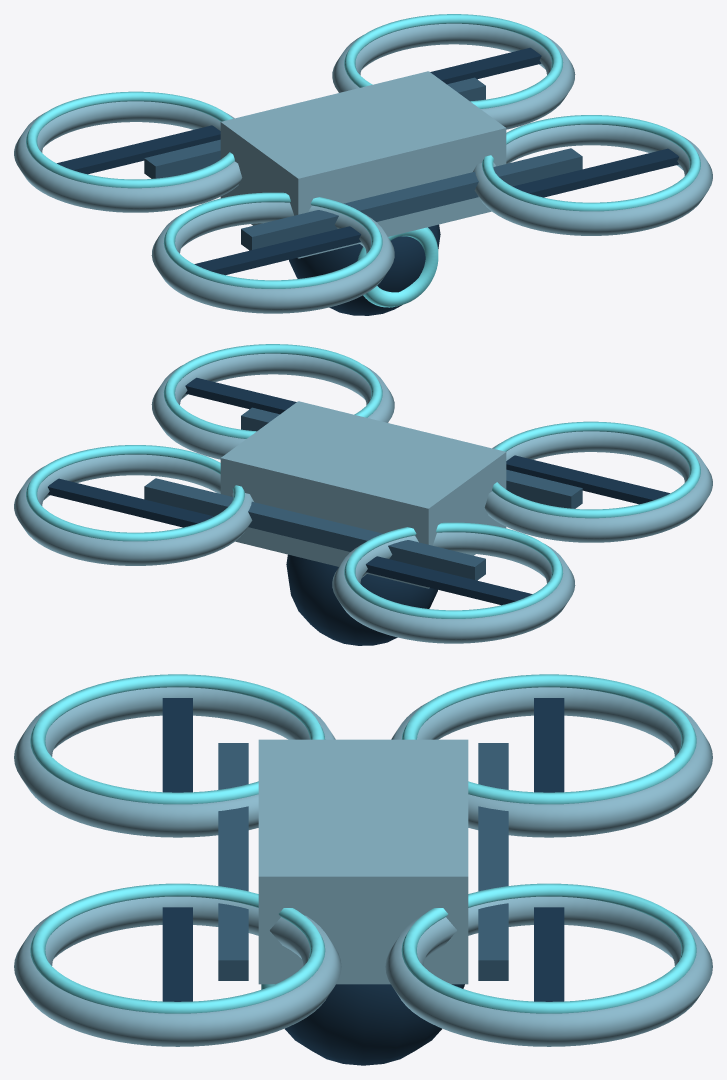
The model's file is cameraDrone.glb.
The picture shows the model from 3 angles, top to bottom: view 1: azimuth 30°, elevation 25°; view 2: azimuth 150°, elevation 25°; view 3: azimuth 270°, elevation 25°; orthographic projection. The views are drawn at different scales.
Bounding box in the file's own units: 8.64 × 2.88 × 7.34.
